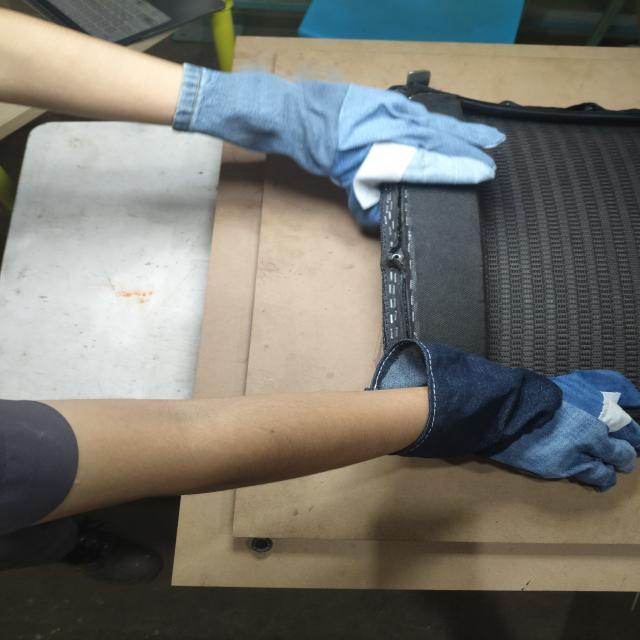Gloves-Detection: (171, 49, 504, 220), (372, 329, 631, 489)
